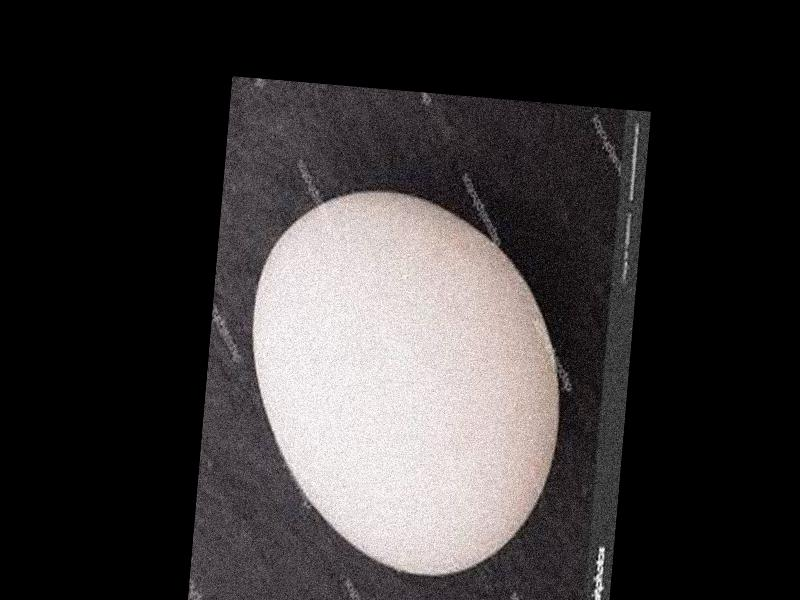Eggs: (235, 181, 577, 584)
